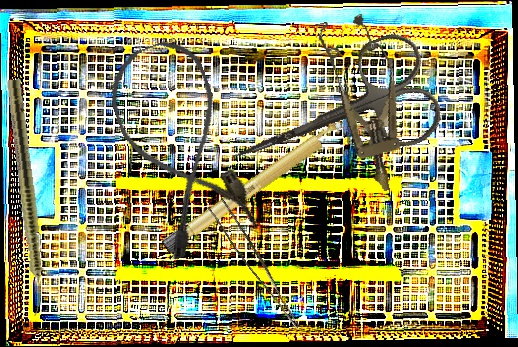Cannula: (97, 32, 262, 262)
Handpiece: (3, 78, 51, 318)
Iris Scissors: (210, 26, 450, 208)
Scalpel Handle: (159, 114, 351, 257)
Speculum: (312, 9, 421, 199)
Tissue Forceps: (204, 197, 314, 329)
